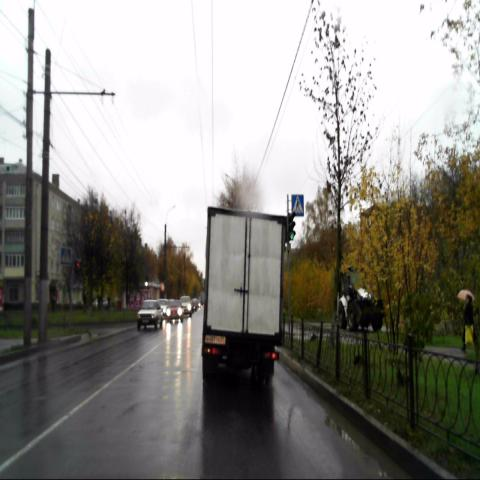5_19_1: (292, 193, 304, 216)
